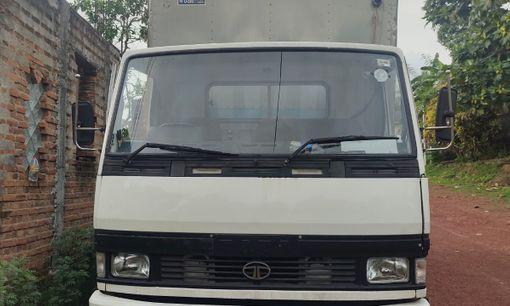truck: (73, 1, 457, 306)
